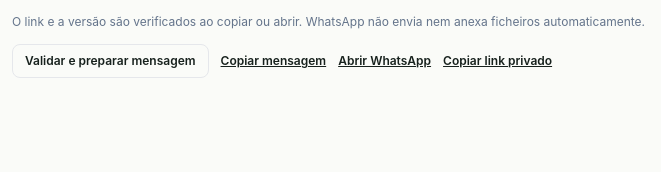
Test case: Validated review sharing › does not expose a clickable WhatsApp link or copy anything on API failure
Click the button "Copiar link privado" at [498, 61], box [443,44,552,78]
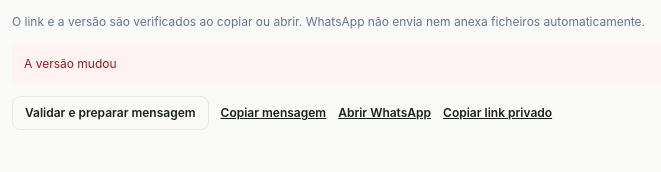
Now the message reads "A versão mudou", box [24,56,117,71]
